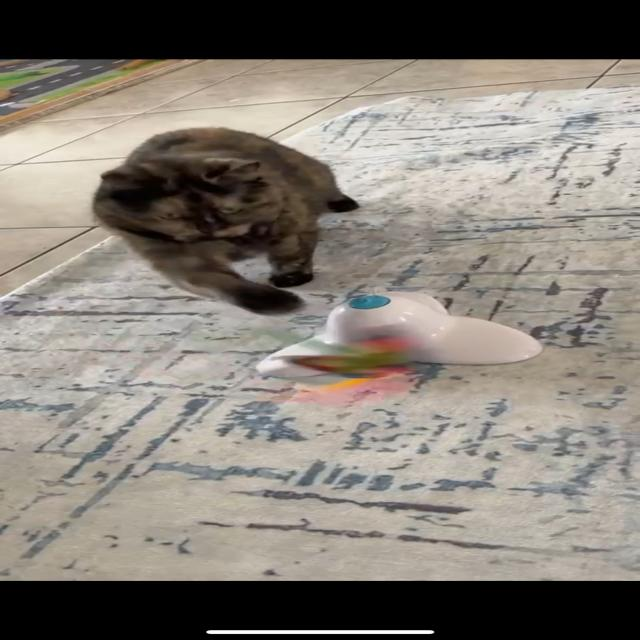authorized: (90, 126, 360, 316)
